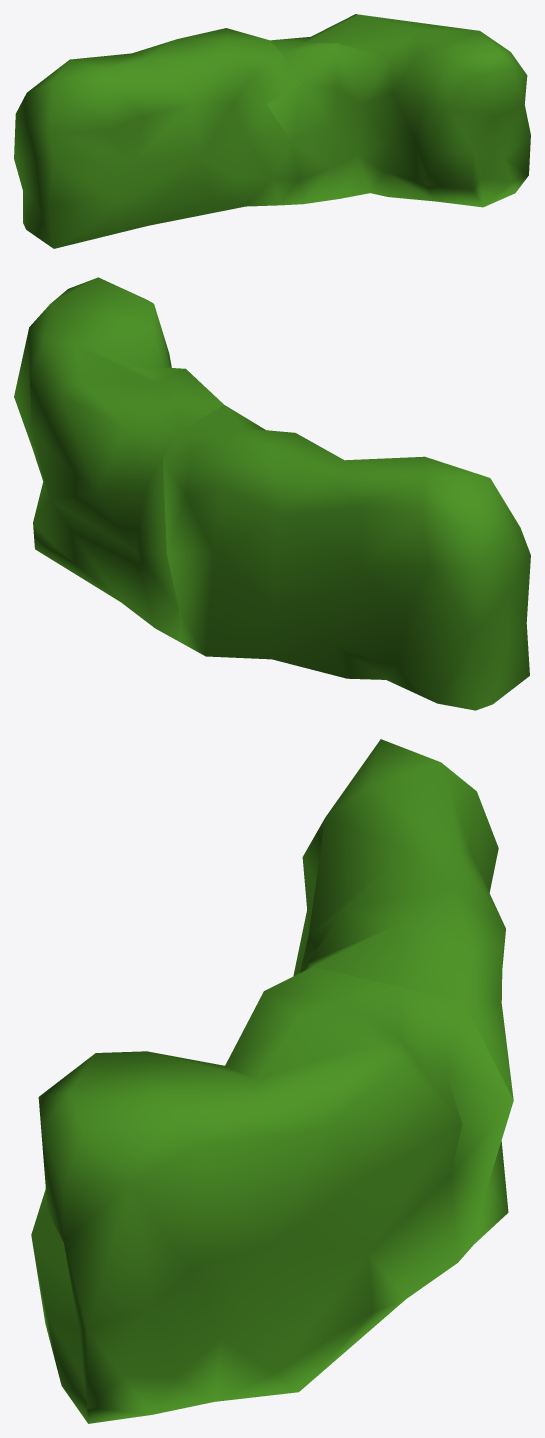
The model's file is Hedge_curved_geo.fbx.
3 renders of one model, top to bottom at view 1: azimuth 30°, elevation 25°; view 2: azimuth 150°, elevation 25°; view 3: azimuth 270°, elevation 25°, orthographic. The views are drawn at different scales.
Parts seen in each view (by area): view 1: Hedge_curved_geo; view 2: Hedge_curved_geo; view 3: Hedge_curved_geo.
Boxes of the visible parts, box(x1,y1,x2,y2) form: Hedge_curved_geo: box(14, 14, 530, 248); Hedge_curved_geo: box(14, 277, 530, 710); Hedge_curved_geo: box(31, 739, 513, 1423).
Bounding box in the file's own units: 2.13 × 1.05 × 0.7592.
